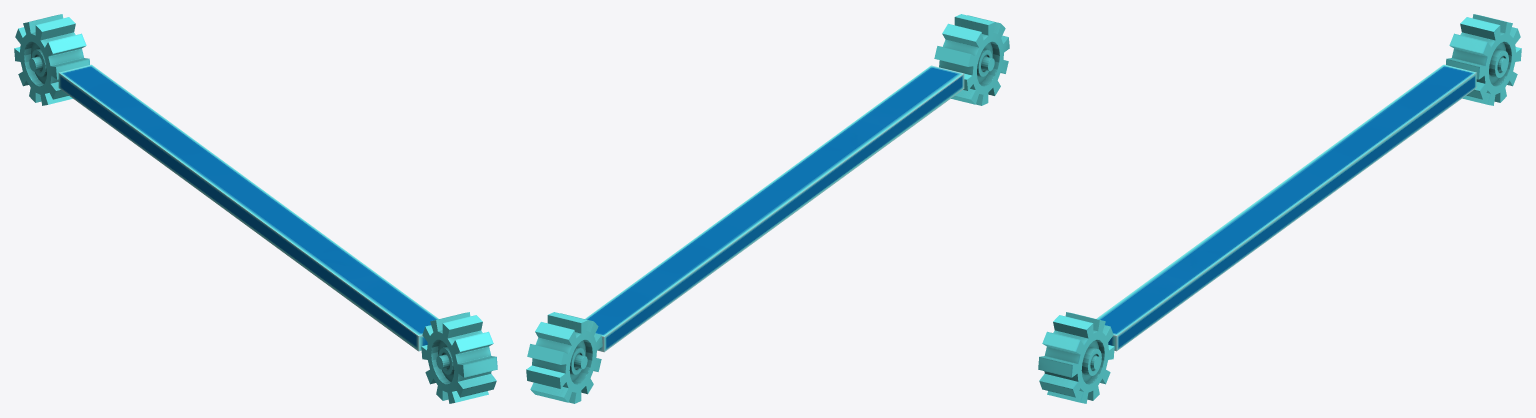
The model's file is Lift_Line.fbx.
3 renders of one model, left to right at view 1: azimuth 30°, elevation 25°; view 2: azimuth 150°, elevation 25°; view 3: azimuth 330°, elevation 25°, orthographic.
Parts seen in each view (by area): view 1: Liftline; view 2: Liftline; view 3: Liftline.
Boxes of the visible parts, left/top/right/bottom form: Liftline: left=14, top=14, right=497, bottom=403; Liftline: left=526, top=14, right=1009, bottom=403; Liftline: left=1038, top=14, right=1521, bottom=403.
Size of the model in its own units: 10.44 by 19.09 by 200.
Materials: 1 (1 with a texture image).
